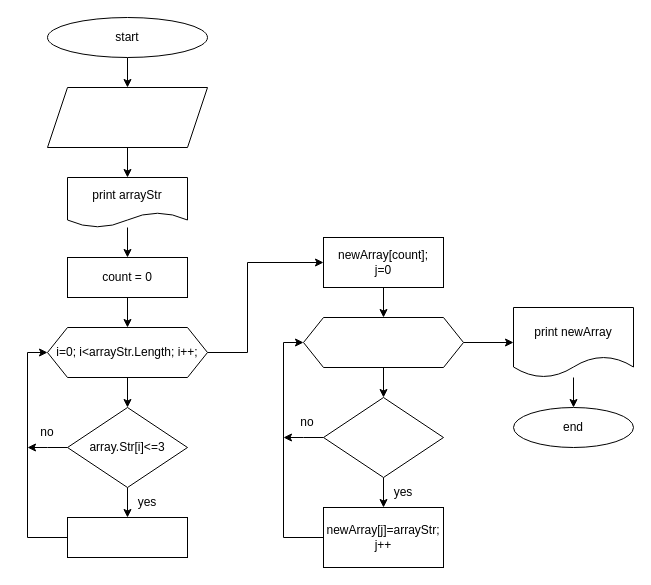
The diagram is 651 pixels wide and 585 high, and some of its shapes have lost their labels. Here are the shapes that lost their labels. From the top down, the box of each, then its label:
(46, 86, 208, 148): Ввод length; Ввод значений arrayStr[length]
(302, 316, 464, 368): i=0; i<arrayStr.Length; i++
(322, 396, 444, 478): arrayStr[i]<=3
(66, 516, 188, 558): count++
